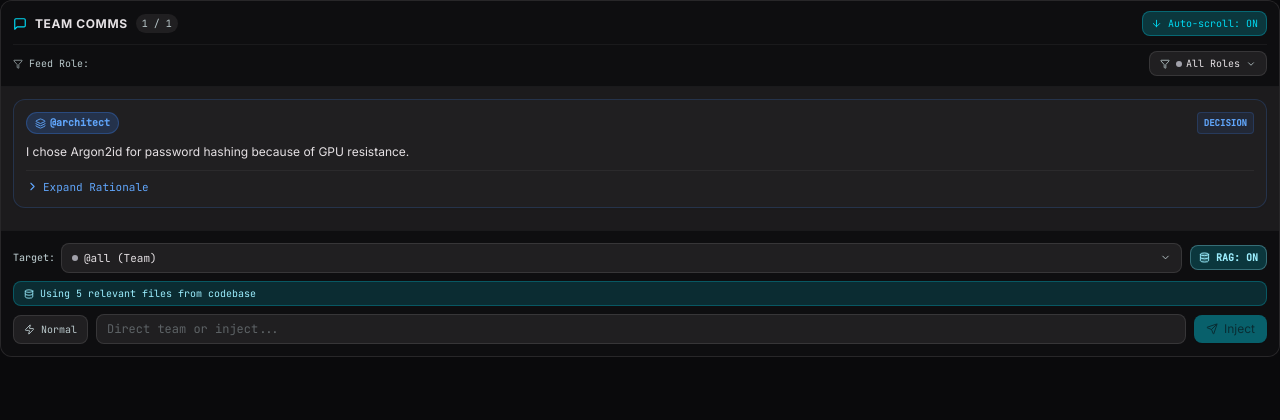
Test: Phase B4 — Live Team Chat + Operator Injection › test_decision_message_expands_collapses_rationale: toggles expandable rationale view
Check: the text "I chose Argon2id for password hashing because of GPU resistance." is shown, box [26,144,409,159]
Click the button with test id "decision-toggle" at (87, 186), box [26,178,149,194]
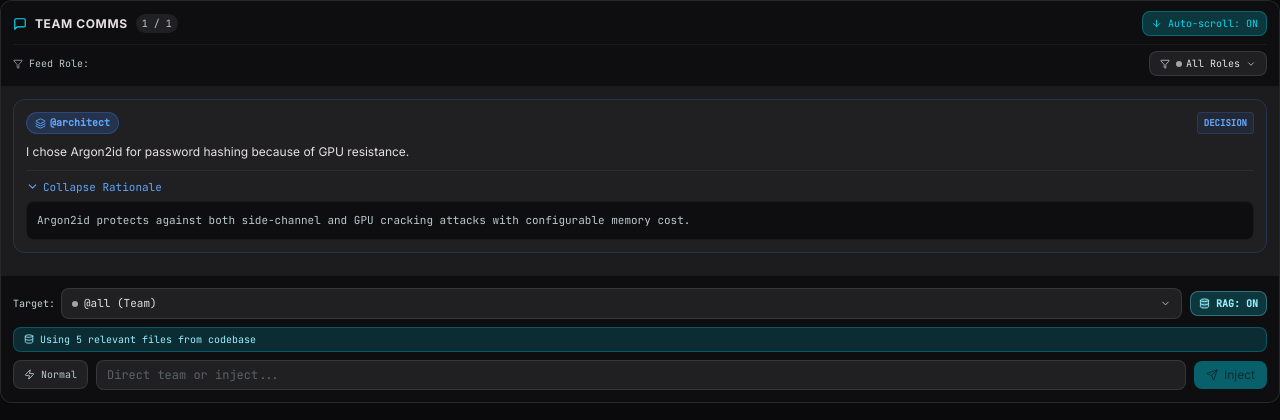
Check: the text with test id "decision-rationale" is shown, box [26,200,1254,240]
Check: the text with test id "decision-rationale" shows "Argon2id protects against both side-channel", box [37,212,690,226]
Check: the button with test id "decision-toggle" reads "Collapse Rationale"
Click Collapse Rationale
Click the button with test id "decision-toggle" at (94, 186), box [26,178,162,194]
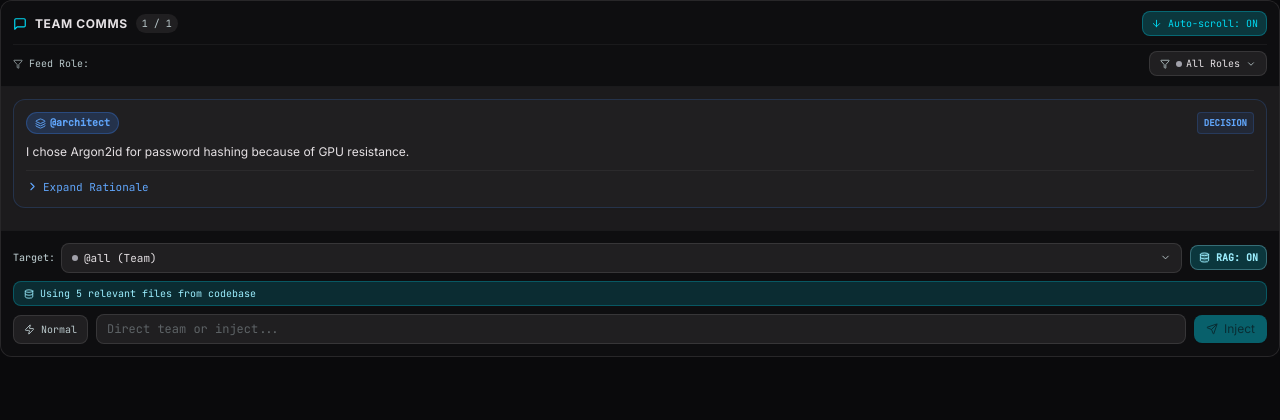
Check: the text with test id "decision-rationale" is gone
